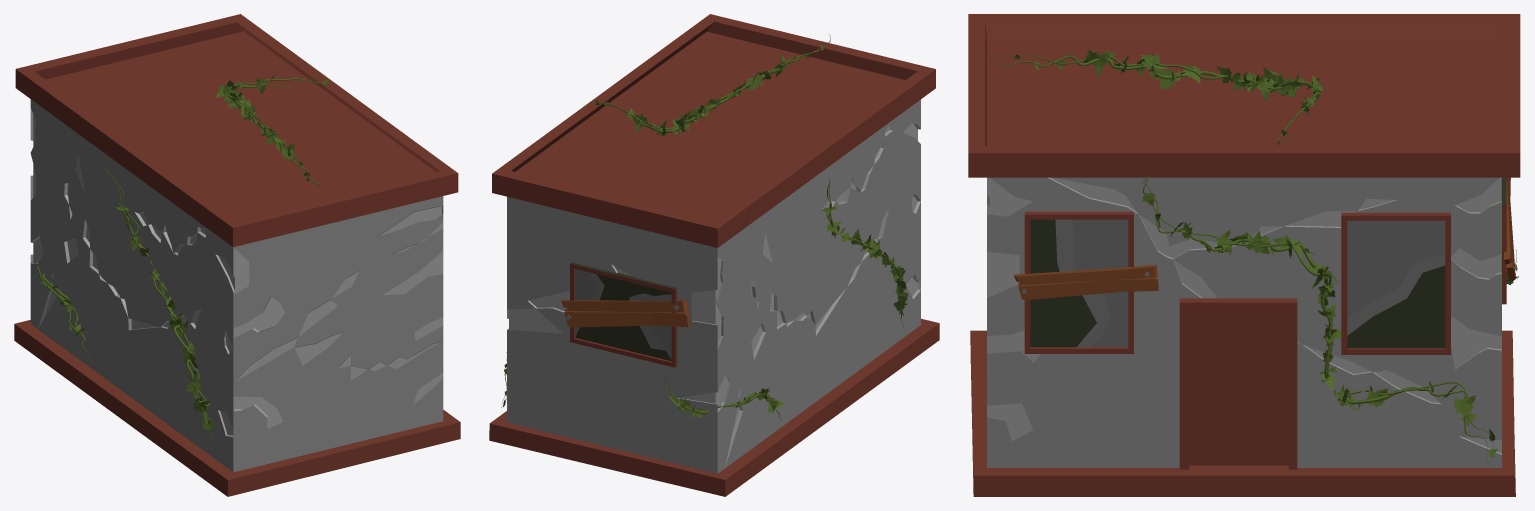
File: Building3_Fix.fbx
3 renders of one model, left to right at view 1: azimuth 30°, elevation 25°; view 2: azimuth 150°, elevation 25°; view 3: azimuth 270°, elevation 25°, orthographic. The views are drawn at different scales.
Parts seen in each view (by area): view 1: Cube.005, Vines.002; view 2: Cube.005, Windows/Doors.004, Vines.002, Wooden Planks.002; view 3: Cube.005, Cube.006, Windows/Doors.001, Windows/Doors.007, Vines.002, Wooden Planks.001, Wooden Planks.002, Windows/Doors.004.
Part boxes in pixels (x1,y1,x2,y2): Cube.005: (14, 14, 460, 496); Vines.002: (35, 72, 328, 456); Cube.005: (489, 14, 939, 496); Windows/Doors.004: (570, 262, 677, 367); Vines.002: (501, 35, 907, 419); Wooden Planks.002: (561, 300, 690, 327); Cube.005: (968, 14, 1520, 496); Cube.006: (1179, 298, 1297, 469); Windows/Doors.001: (1341, 212, 1450, 354); Windows/Doors.007: (1024, 211, 1133, 353); Vines.002: (985, 50, 1518, 466); Wooden Planks.001: (1014, 264, 1158, 300); Wooden Planks.002: (1503, 177, 1515, 281); Windows/Doors.004: (1502, 177, 1506, 304).
Bounding box in the file's own units: 405 × 431 × 580.
